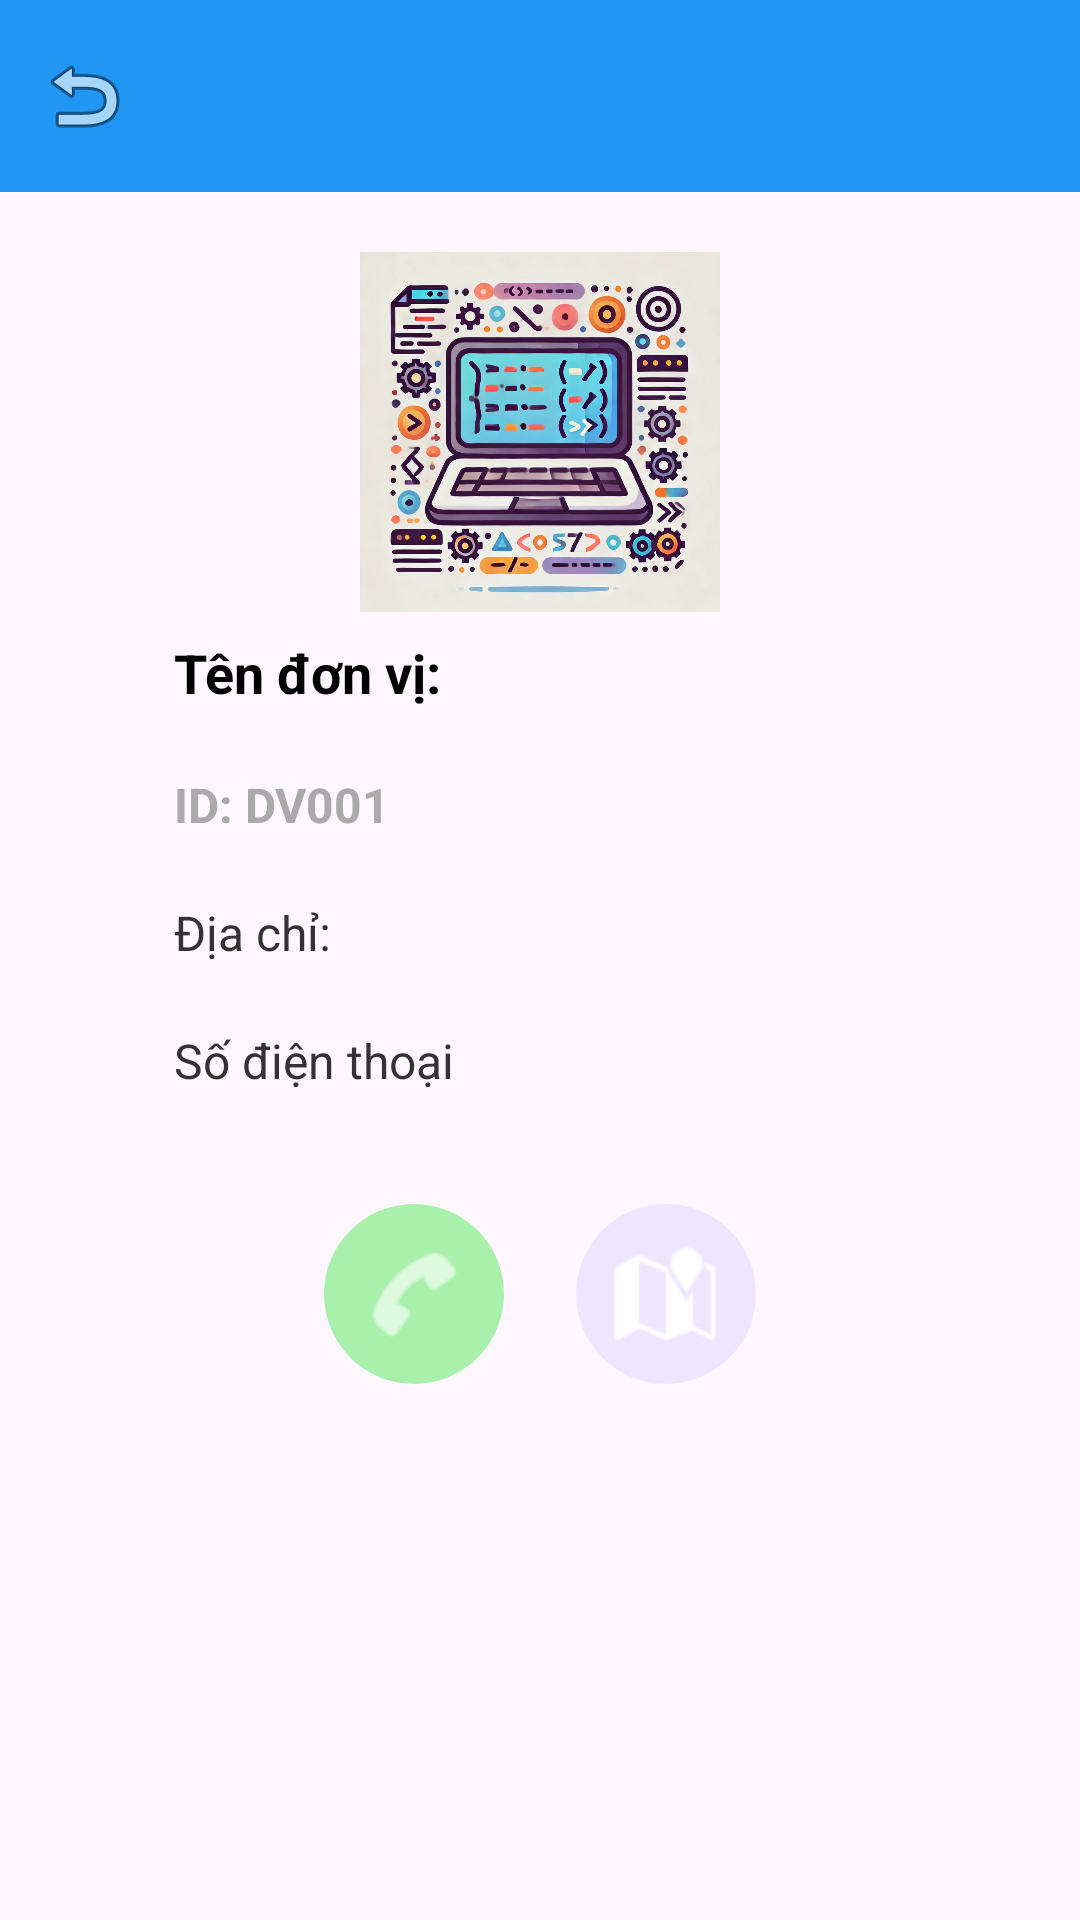

Named icons in this screenshot (1080px x 1920px) and their bounding boxes, (x1, y1, x2, y2):
computer: (360, 252, 720, 612)
Gọi điện: (324, 1204, 504, 1384)
